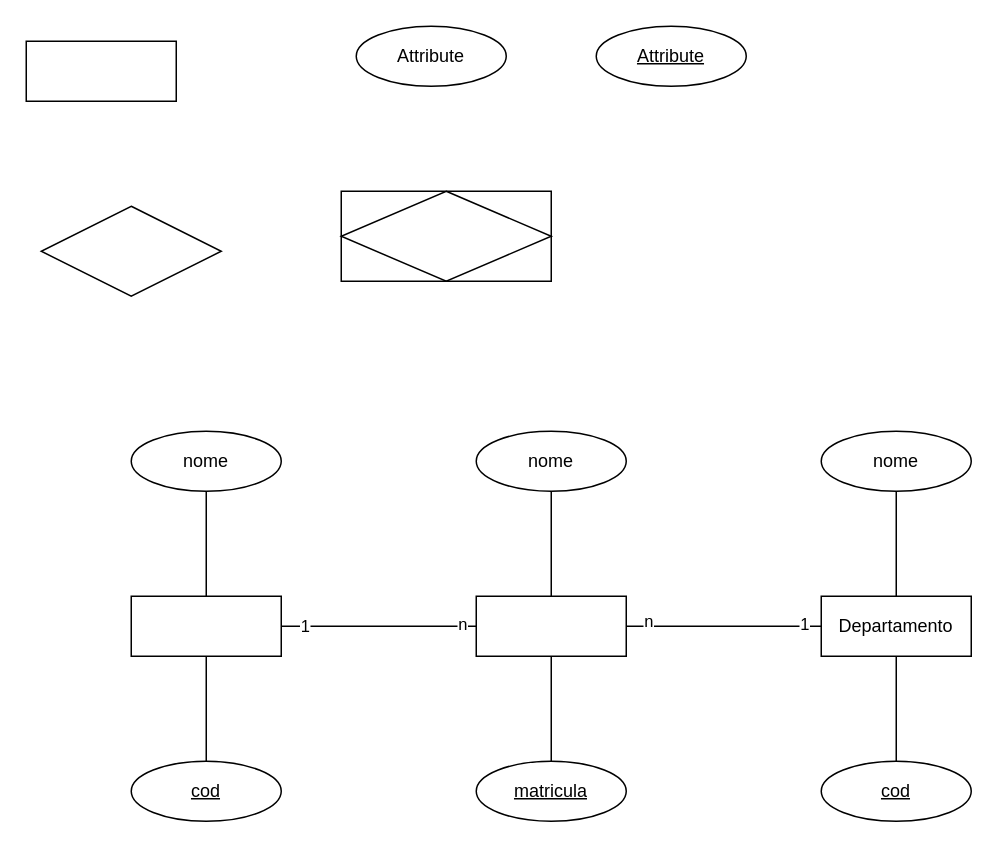
Image size: 998x848. Some labels were removed from this diagram. Here are the shapes that lost their labels. From the top down, the centre of each, then its label:
At point (100, 70): "Entity".
At point (130, 250): "Relationship".
At point (445, 235): "Associative Entity".
At point (205, 625): "Projeto".
At point (550, 625): "Empregado".
